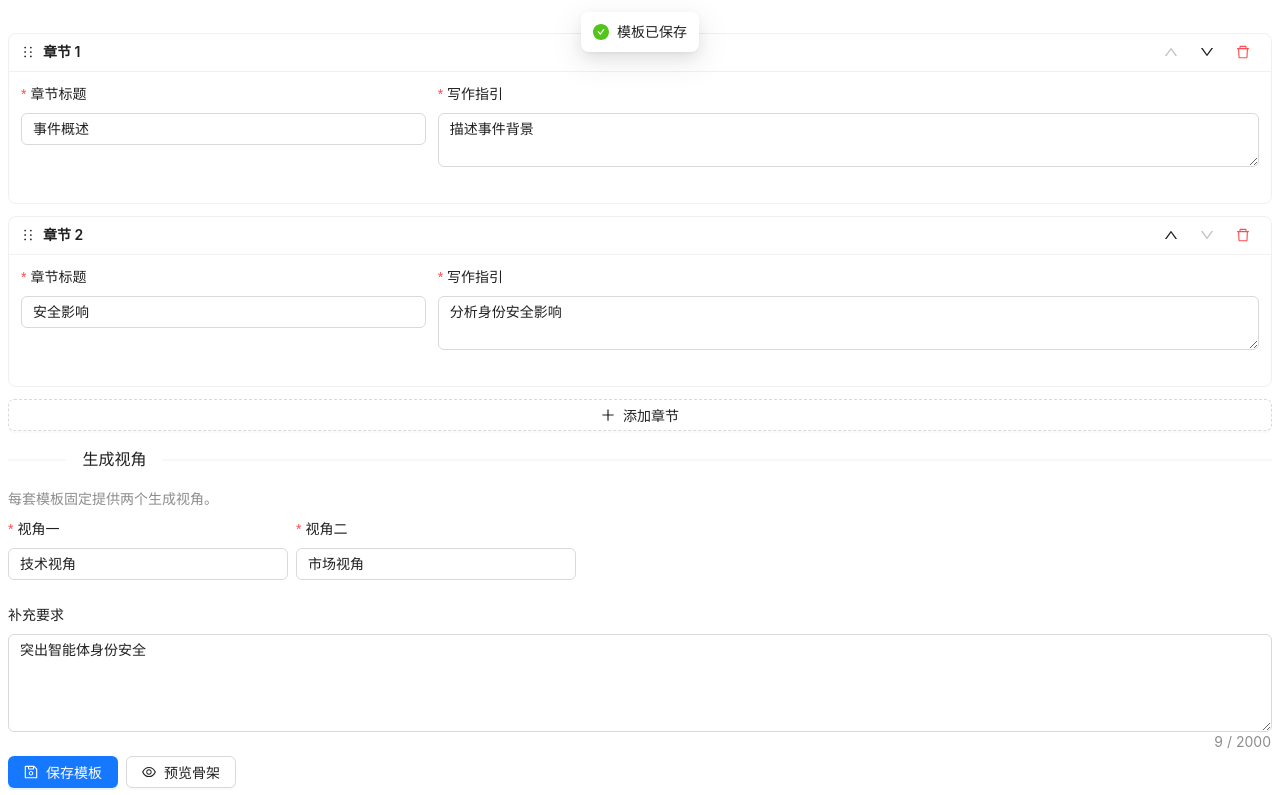
Test case: TemplateEditor › shows a friendly message for optimistic-lock conflicts
This screenshot has width=1280, height=795.
(page scrolled)
Click the button "保存模板" at [63, 772], box [8,756,118,788]
(page scrolled)
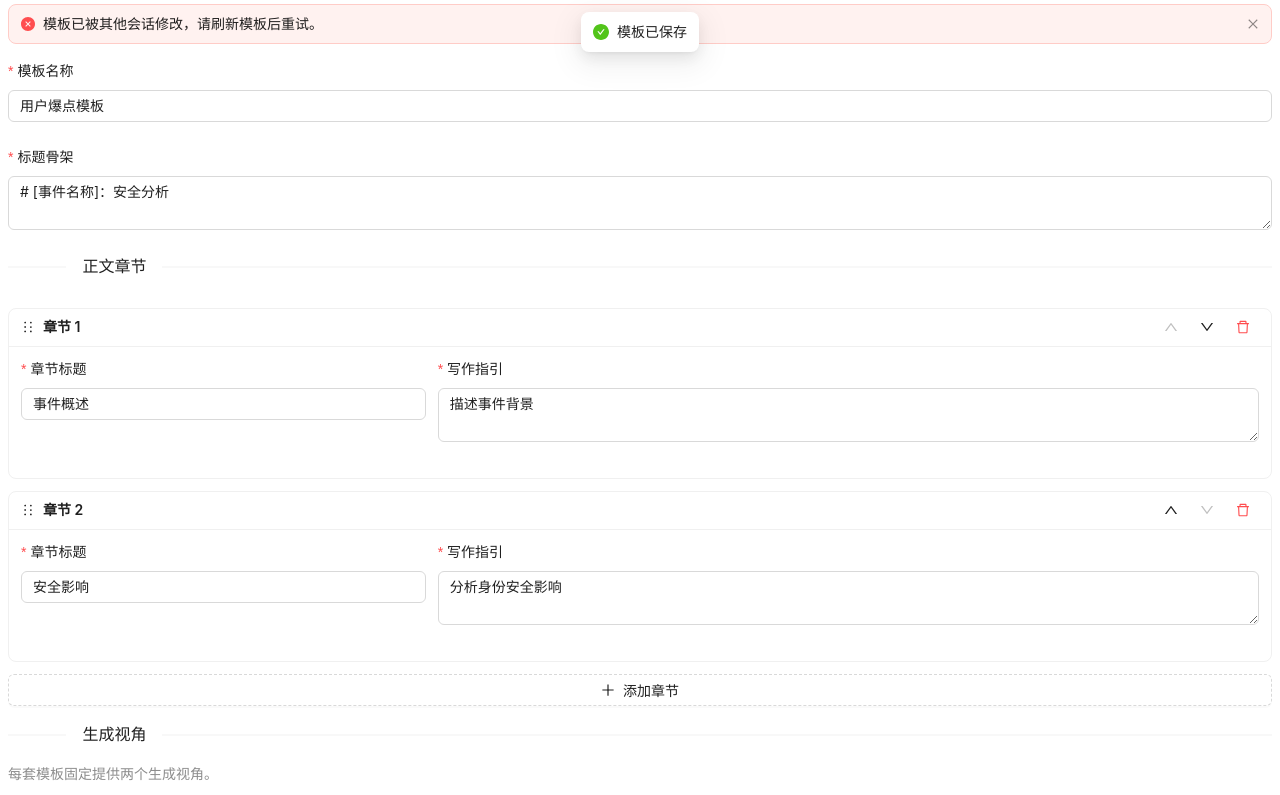
Expected: the text "模板已被其他会话修改，请刷新模板后重试。" is shown, [43,15,323,32]
